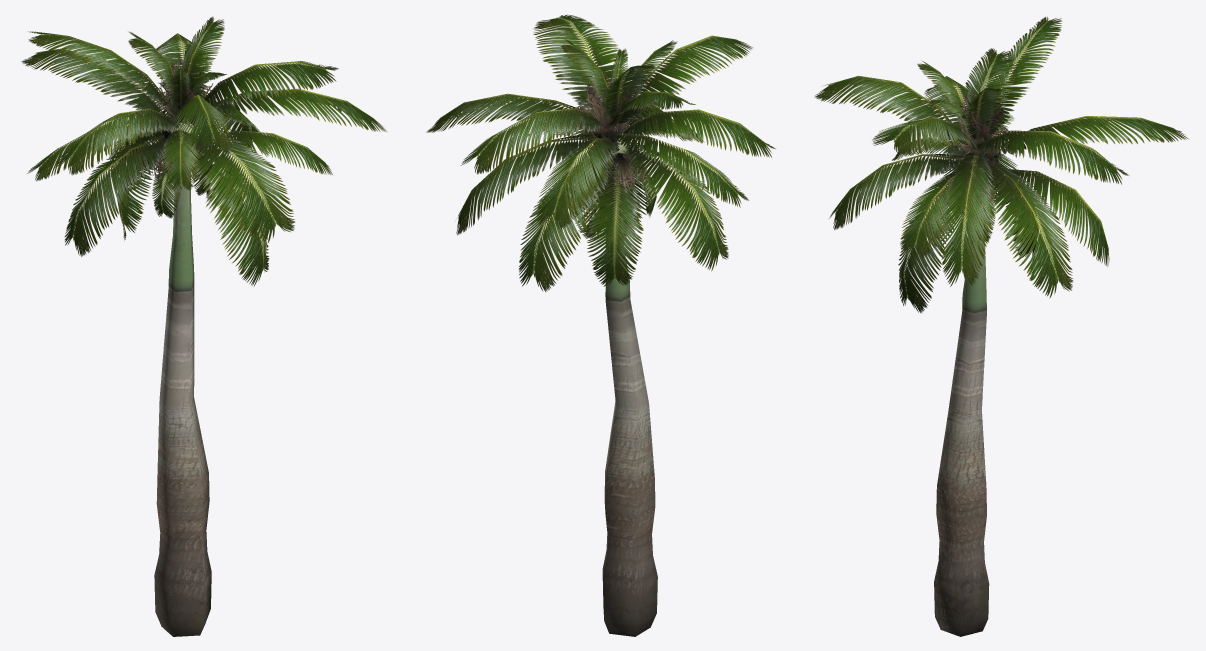
The model's file is Palm_Tropical_04.glb.
The picture shows the model from 3 angles, left to right: view 1: azimuth 30°, elevation 25°; view 2: azimuth 150°, elevation 25°; view 3: azimuth 270°, elevation 25°; orthographic projection. The views are drawn at different scales.
Parts seen in each view (by area): view 1: Palm1_VAR4; view 2: Palm1_VAR4; view 3: Palm1_VAR4.
Part boxes in pixels (x1,y1,x2,y2): Palm1_VAR4: [21, 16, 387, 636]; Palm1_VAR4: [426, 14, 775, 636]; Palm1_VAR4: [814, 17, 1188, 636].
Size of the model in its own units: 3.49 by 5.75 by 3.54.
Materials: 1 (1 with a texture image).
